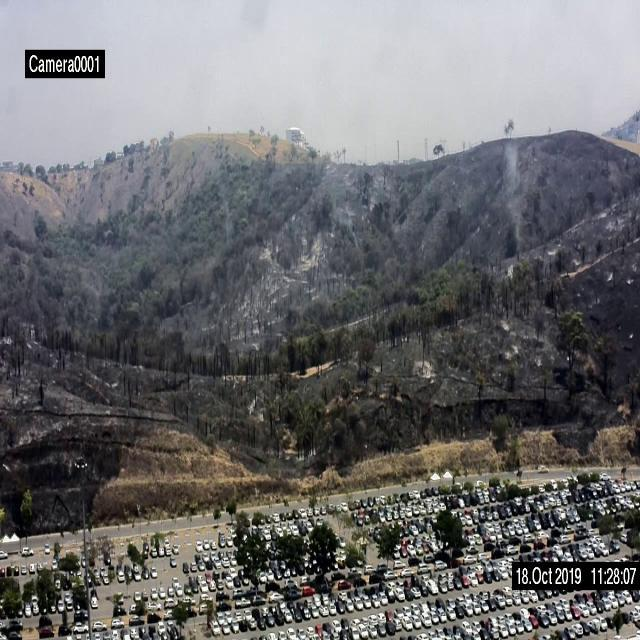Fire: (209, 168, 233, 236)
Smoke: (500, 138, 527, 252), (331, 204, 362, 248)
